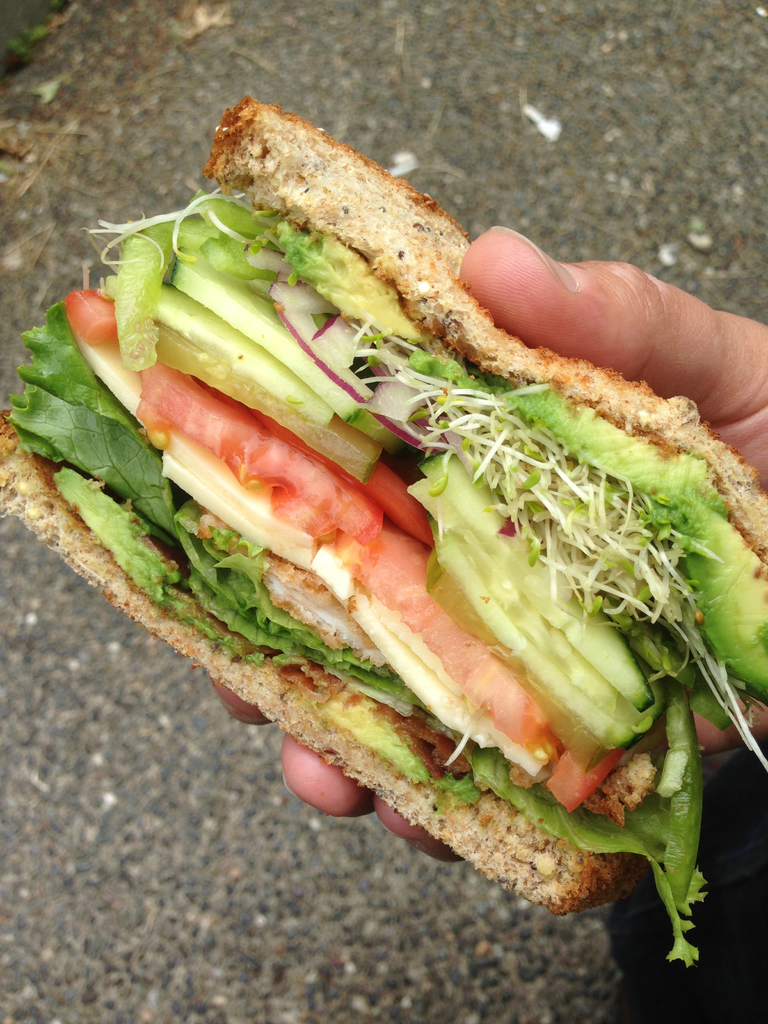sandwich: (0, 94, 767, 956)
